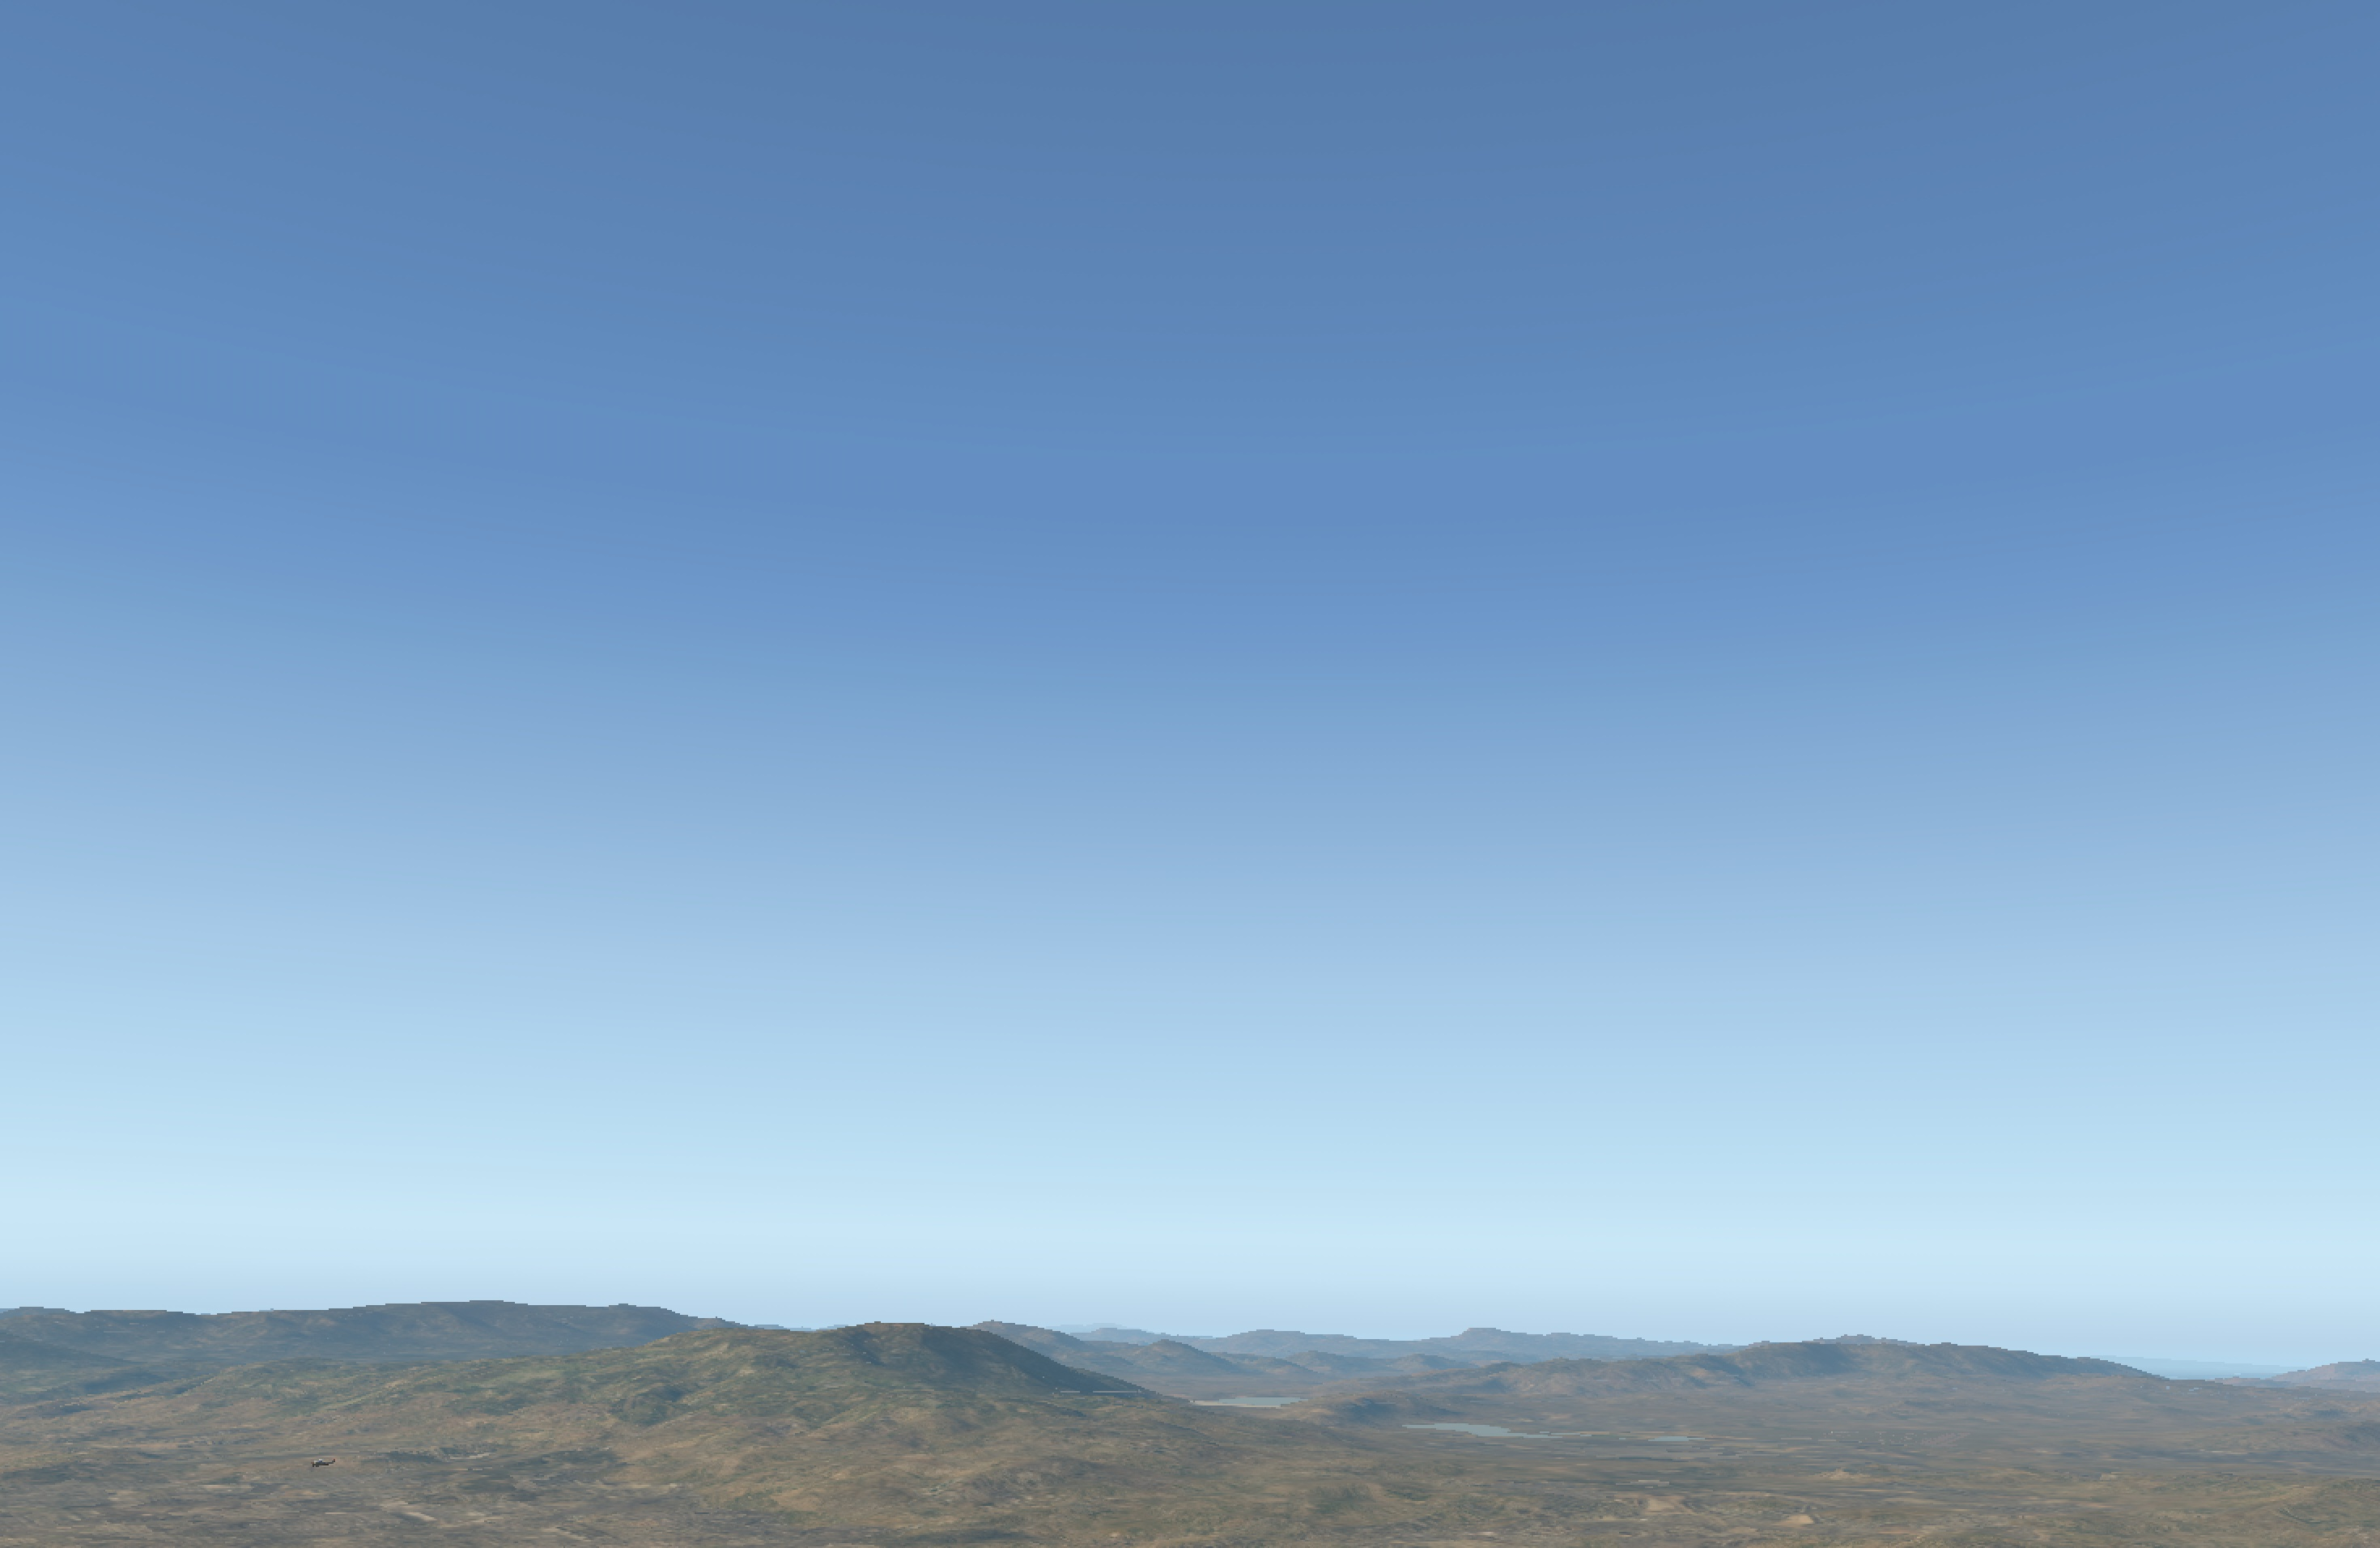aircraft: (307, 1459, 328, 1466)
